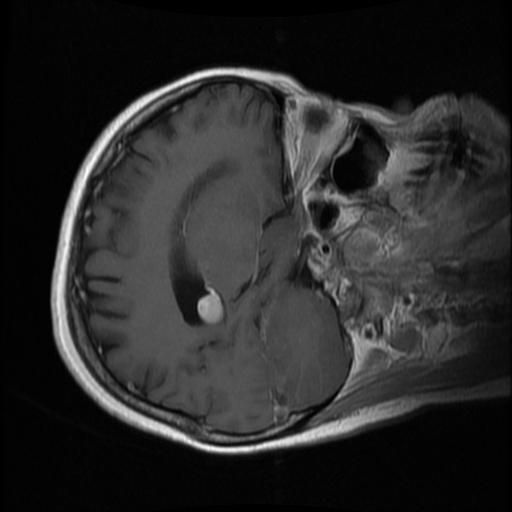meningioma: (195, 290, 223, 323)
